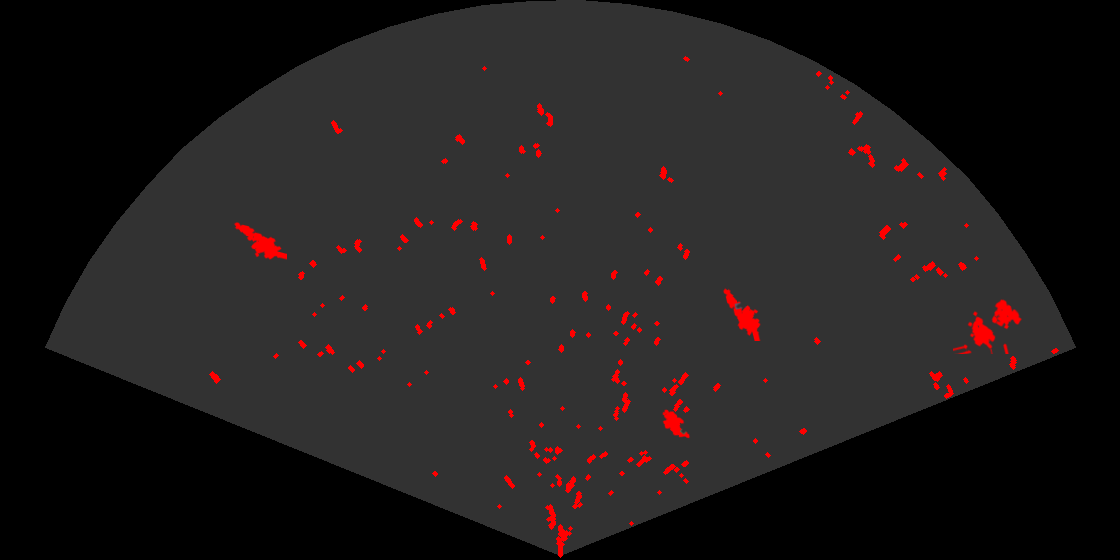AUV: (661, 408, 692, 440)
cage: (953, 298, 1024, 354)
frogman: (722, 286, 762, 341), (232, 221, 287, 261)
